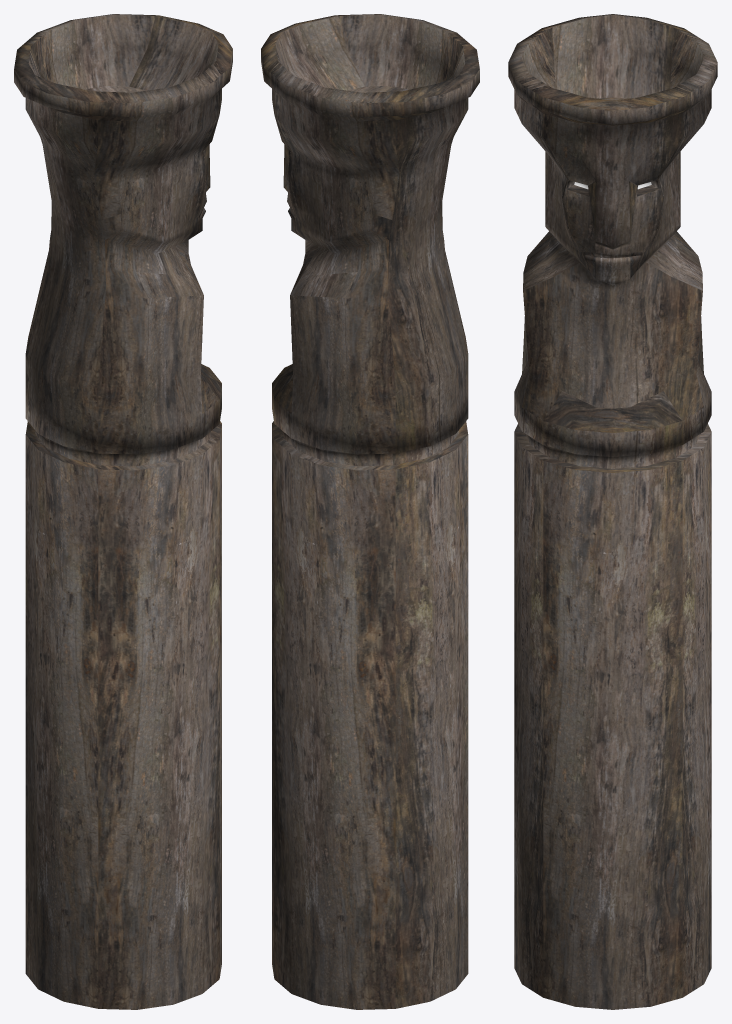
Rendered from artefact.fbx.
3 views of the same model, side by side, from view 1: azimuth 30°, elevation 25°; view 2: azimuth 150°, elevation 25°; view 3: azimuth 270°, elevation 25° (orthographic).
Visible parts, largest first — view 1: Cylinder; view 2: Cylinder; view 3: Cylinder.
Boxes of the visible parts, x1,y1,x2,y2 form: Cylinder: (14,14,232,1009); Cylinder: (261,14,479,1009); Cylinder: (508,14,717,1009).
Size of the model in its own units: 233 by 1019 by 213.
